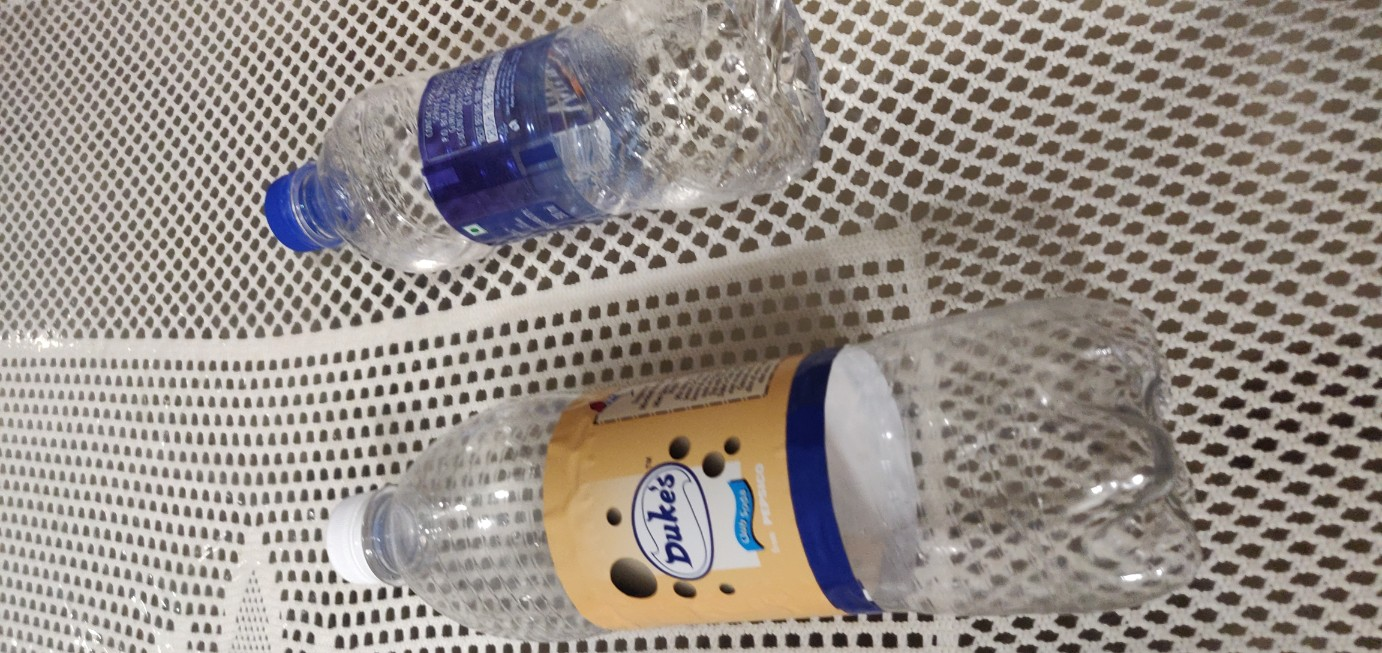Electronics: (295, 267, 1233, 652), (242, 1, 891, 285)
